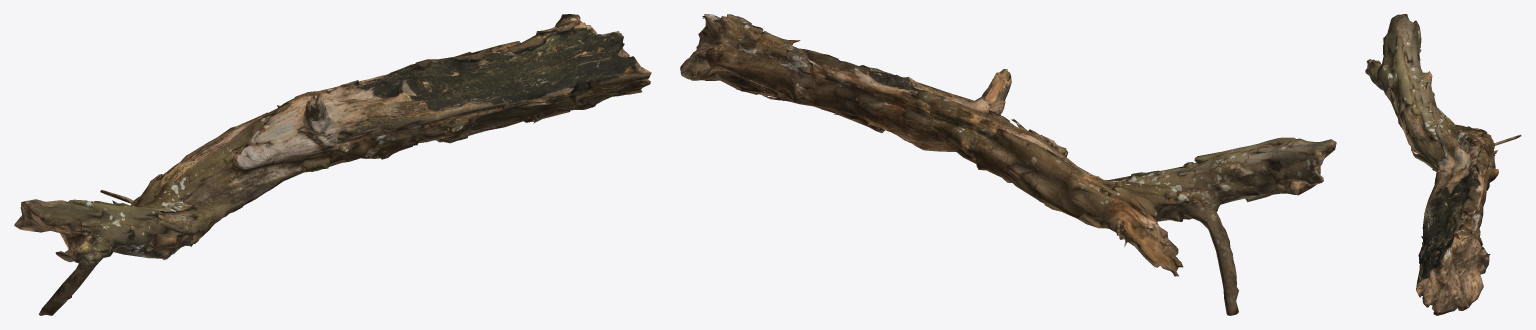
File: dead_tree_trunk_02.glb
3 renders of one model, left to right at view 1: azimuth 30°, elevation 25°; view 2: azimuth 150°, elevation 25°; view 3: azimuth 270°, elevation 25°, orthographic. The views are drawn at different scales.
Visible parts, largest first — view 1: dead_tree_trunk_02; view 2: dead_tree_trunk_02; view 3: dead_tree_trunk_02.
Part boxes in pixels (left/top/right/bottom): dead_tree_trunk_02: left=14, top=14, right=651, bottom=315; dead_tree_trunk_02: left=680, top=14, right=1336, bottom=315; dead_tree_trunk_02: left=1365, top=14, right=1521, bottom=315.
Bounding box in the file's own units: 4.05 × 1.05 × 1.05.
1 material, 1 textured.
